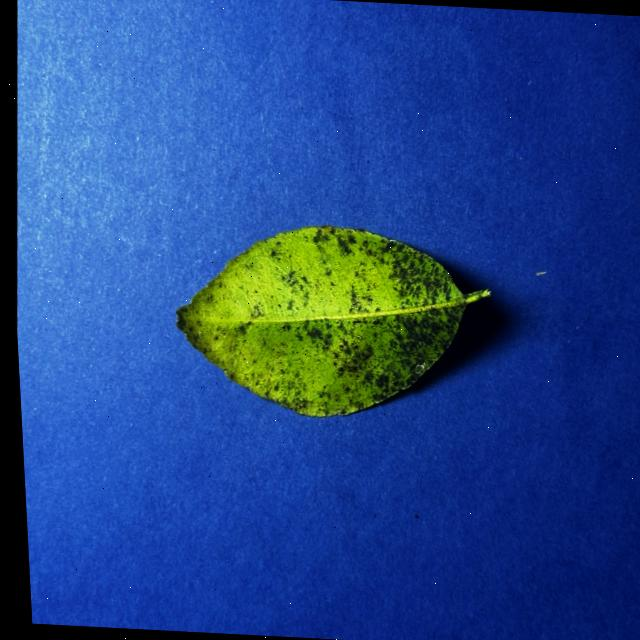sooty_mold: (176, 226, 488, 416)
